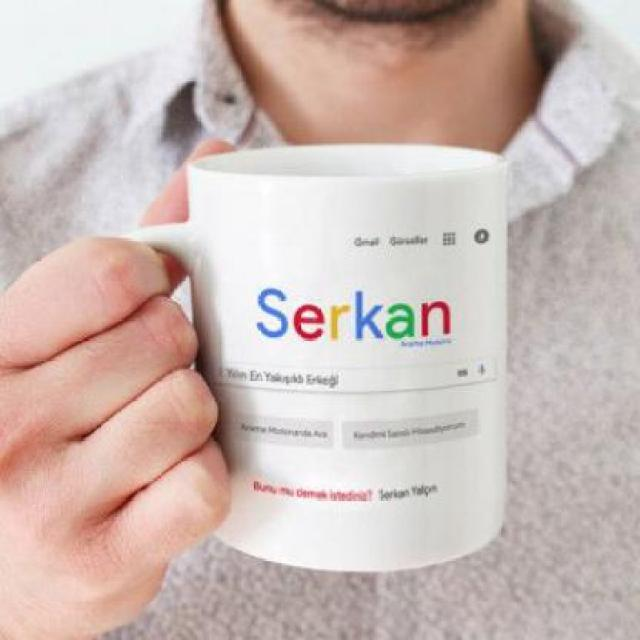taza: (84, 130, 516, 578)
